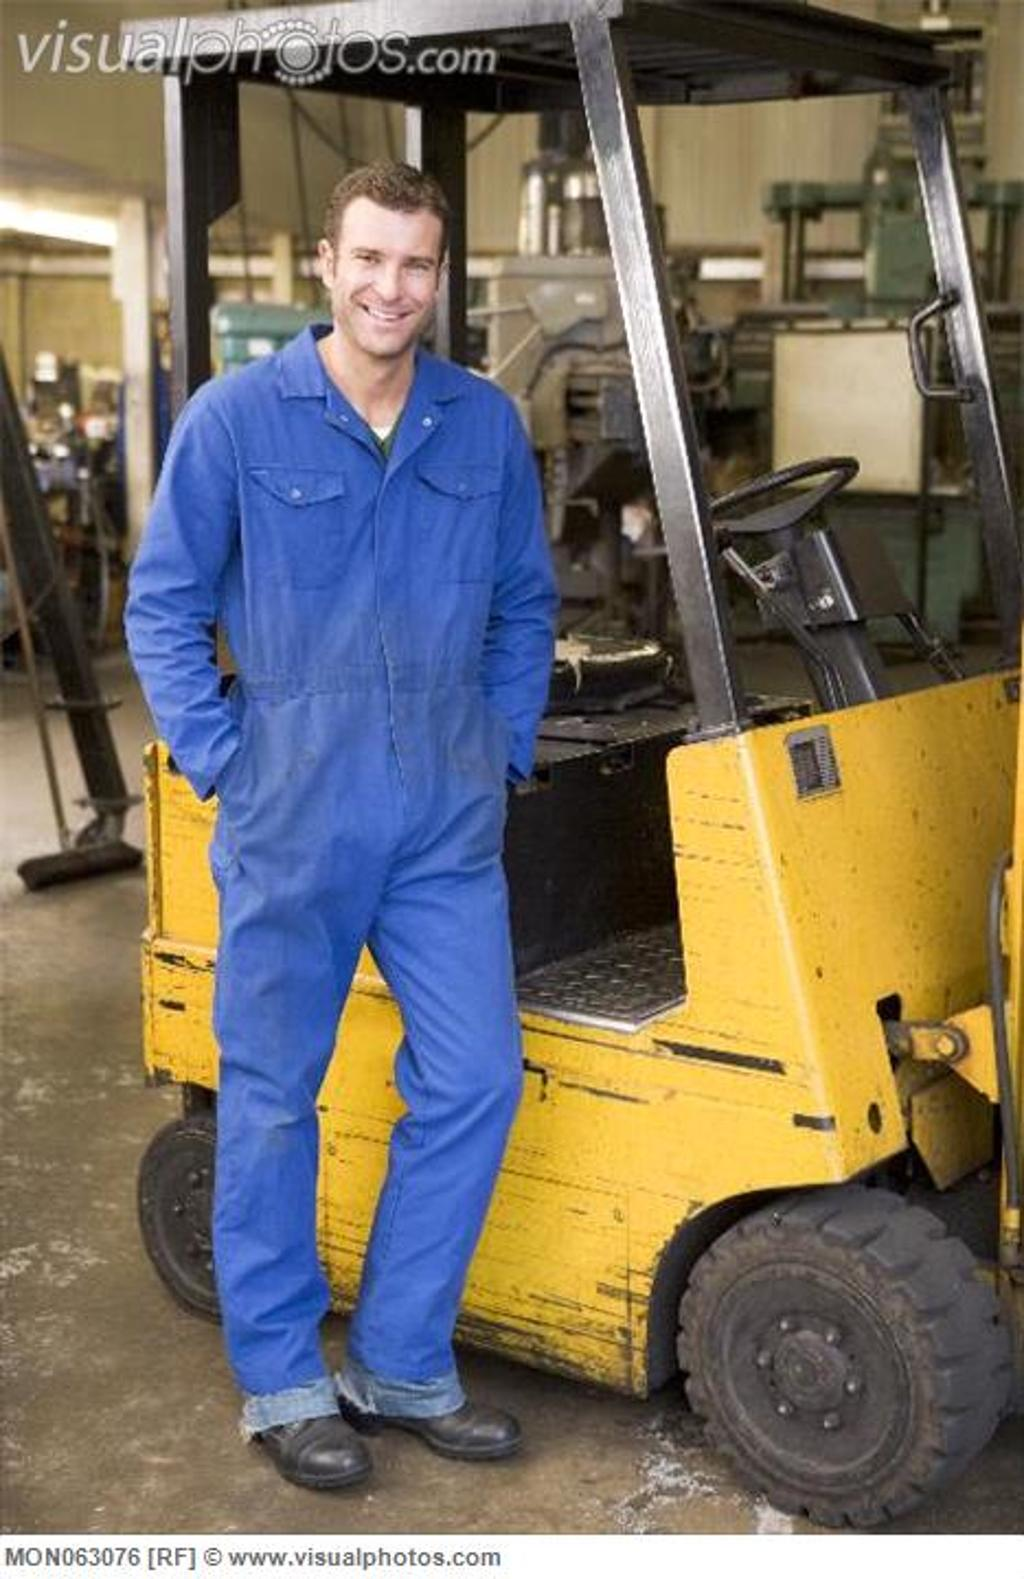face: (336, 213, 435, 352)
